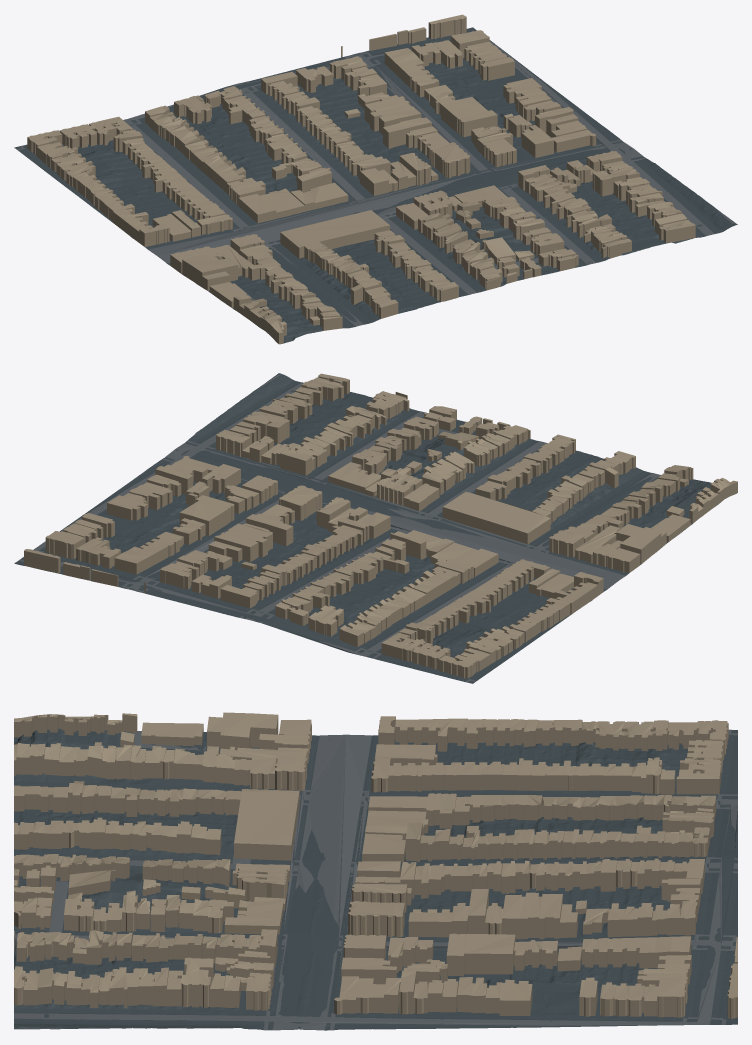
The model's file is epsg26910-1422-10889.lod0.glb.
3 views of the same model, one above another, from view 1: azimuth 30°, elevation 25°; view 2: azimuth 150°, elevation 25°; view 3: azimuth 270°, elevation 25° (orthographic). The views are drawn at different scales.
Parts seen in each view (by area): view 1: epsg26910-1422-10889-lod0; view 2: epsg26910-1422-10889-lod0; view 3: epsg26910-1422-10889-lod0.
Boxes of the visible parts, x1=… form: epsg26910-1422-10889-lod0: x1=14, y1=14, x2=737, y2=344; epsg26910-1422-10889-lod0: x1=14, y1=373, x2=737, y2=683; epsg26910-1422-10889-lod0: x1=14, y1=712, x2=737, y2=1030.
Size of the model in its own units: 384 by 22.84 by 384.
